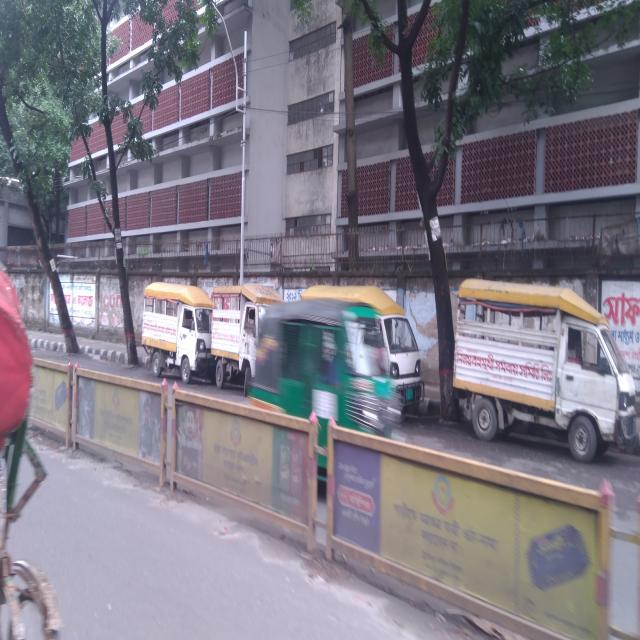CNG: (231, 292, 415, 483)
Leguna: (437, 266, 640, 480), (288, 278, 439, 425), (204, 272, 311, 399), (133, 277, 244, 395)
